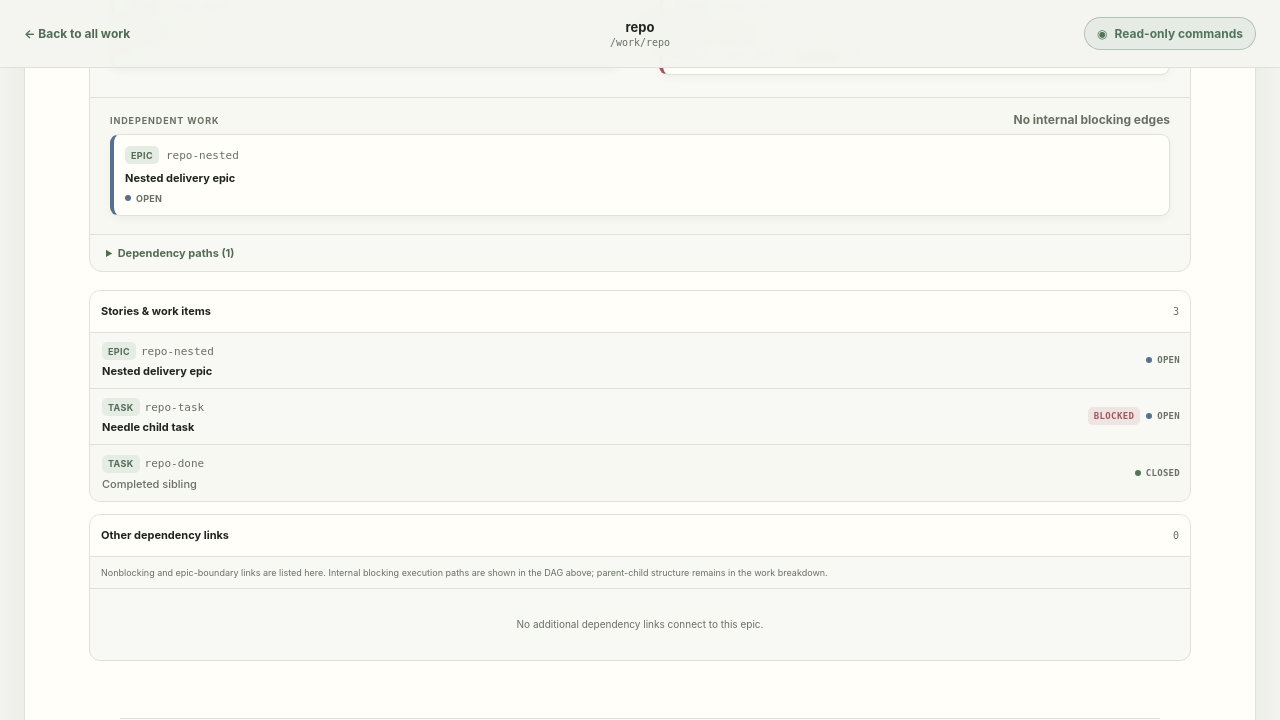
Scenario: App › opens a nested epic as full details inside the originating epic focus context
(page scrolled)
Click the button "Epic repo-nested Nested delivery epic Open" below "Stories & work items": (160, 370) [90, 333, 1190, 389]
(page scrolled)
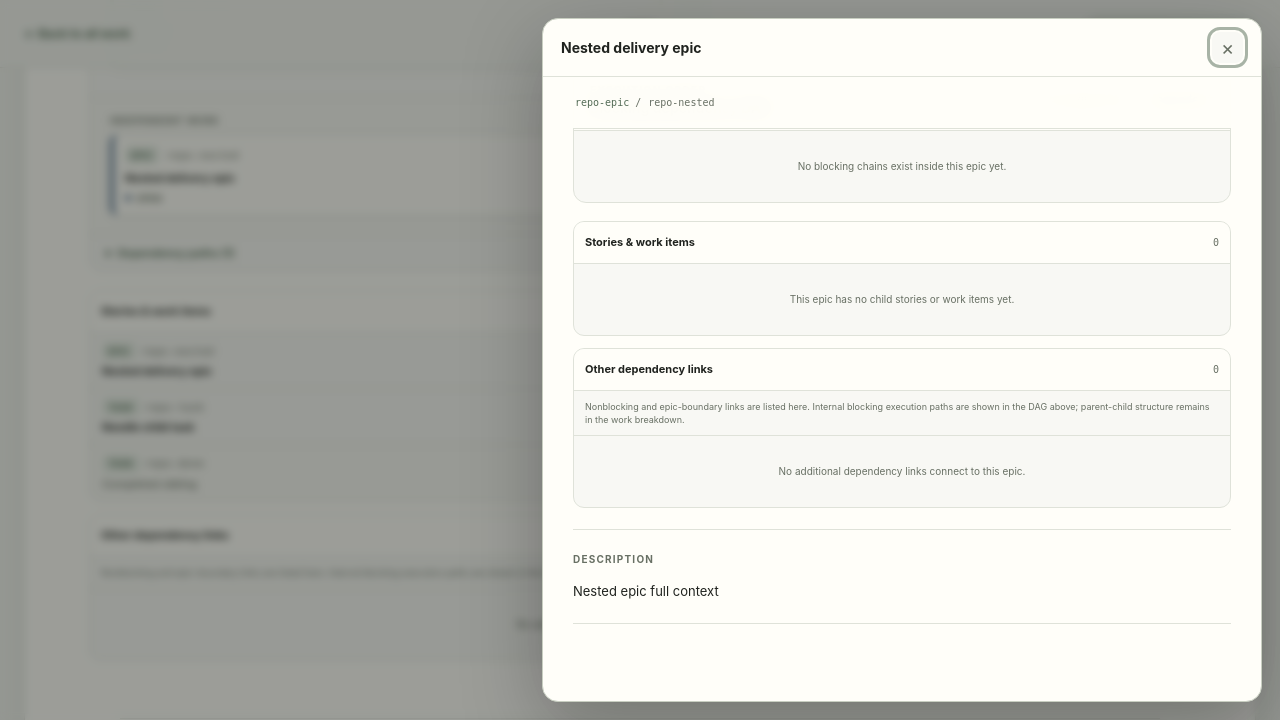
Check: the text "Nested epic full context" is shown, box [573, 583, 719, 599]
